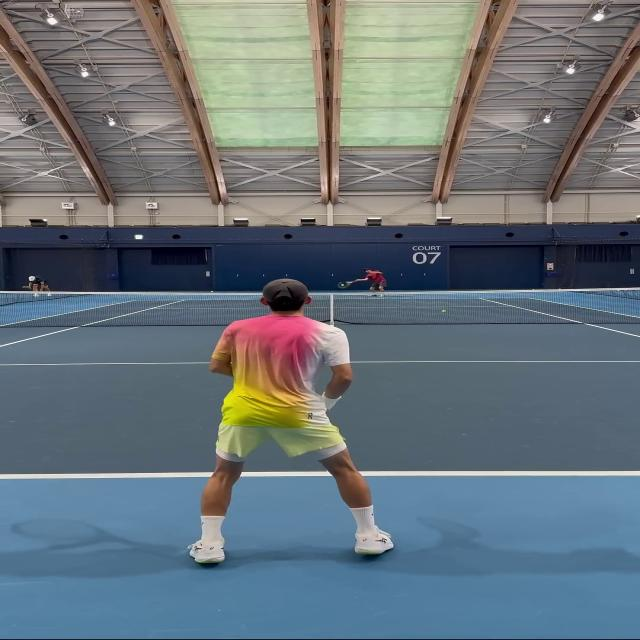tennis_ball: (341, 284, 344, 286)
